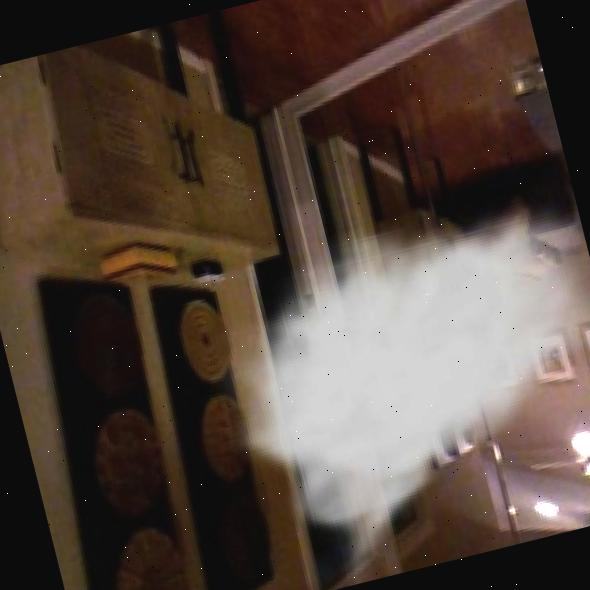smoke: (181, 175, 590, 590)
